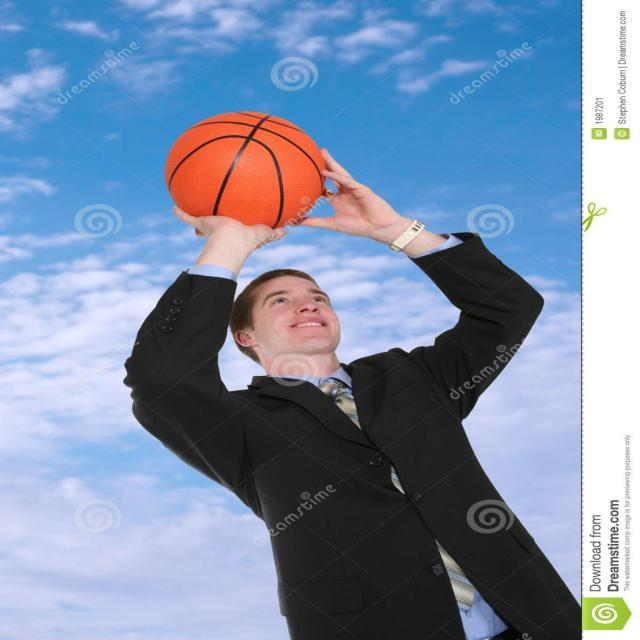Face: (264, 271, 349, 368)
